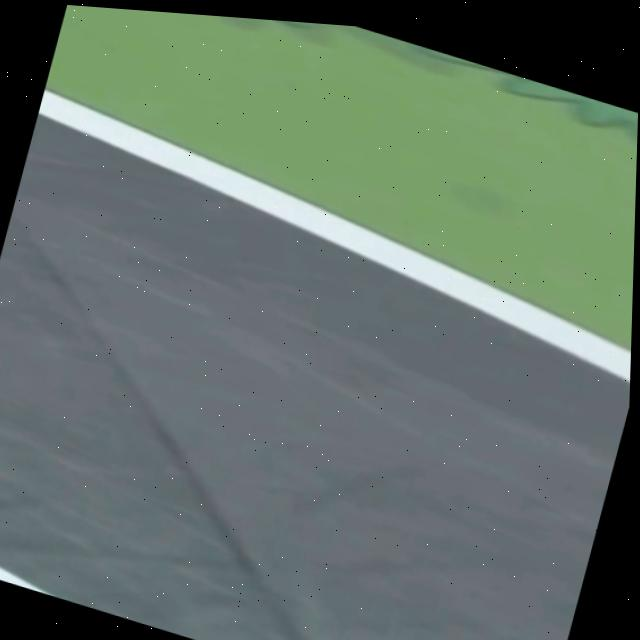center: (0, 568, 48, 595)
right: (37, 90, 631, 382)
